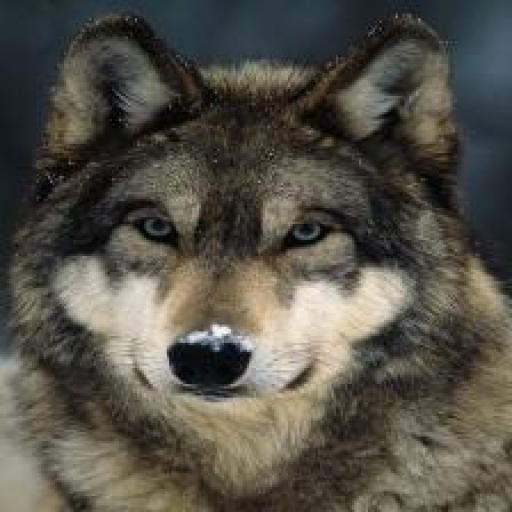wolf: (0, 2, 512, 511)
